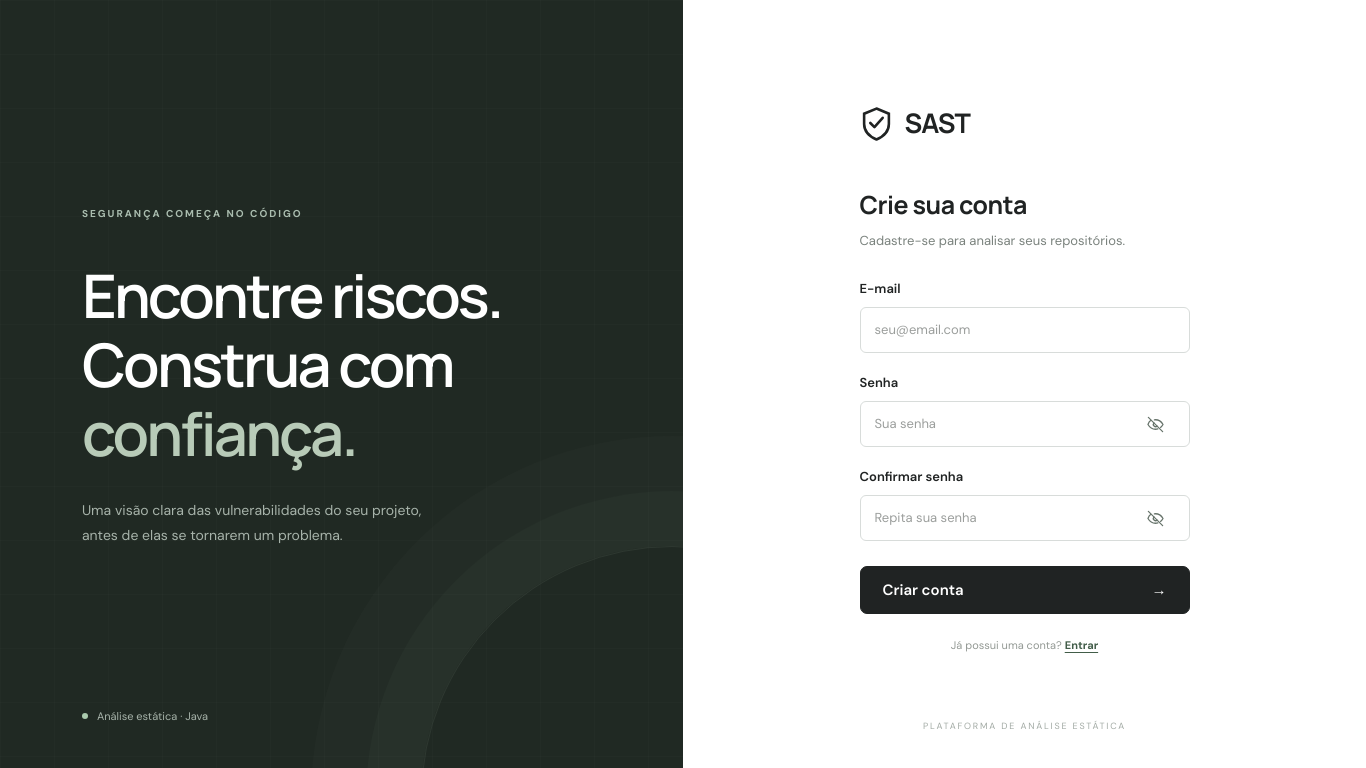
Test: fluxo autenticado da análise › abre diretamente a página de cadastro pela rota
Check: the heading "Crie sua conta" is shown, box [860, 187, 1027, 222]
Click the link "Entrar".
click(1081, 645)  # box [1065, 638, 1098, 652]
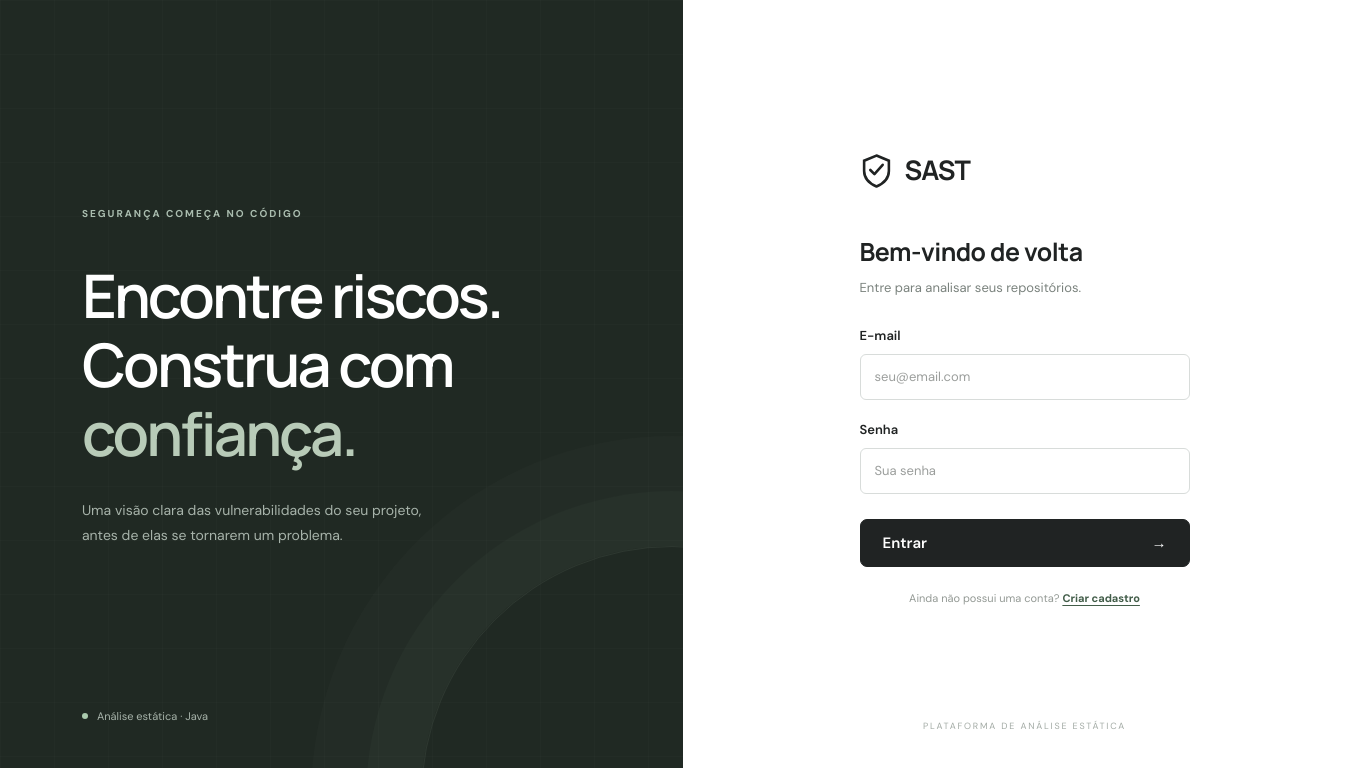
Check: the heading "Bem-vindo de volta" is shown, box [860, 234, 1083, 269]
